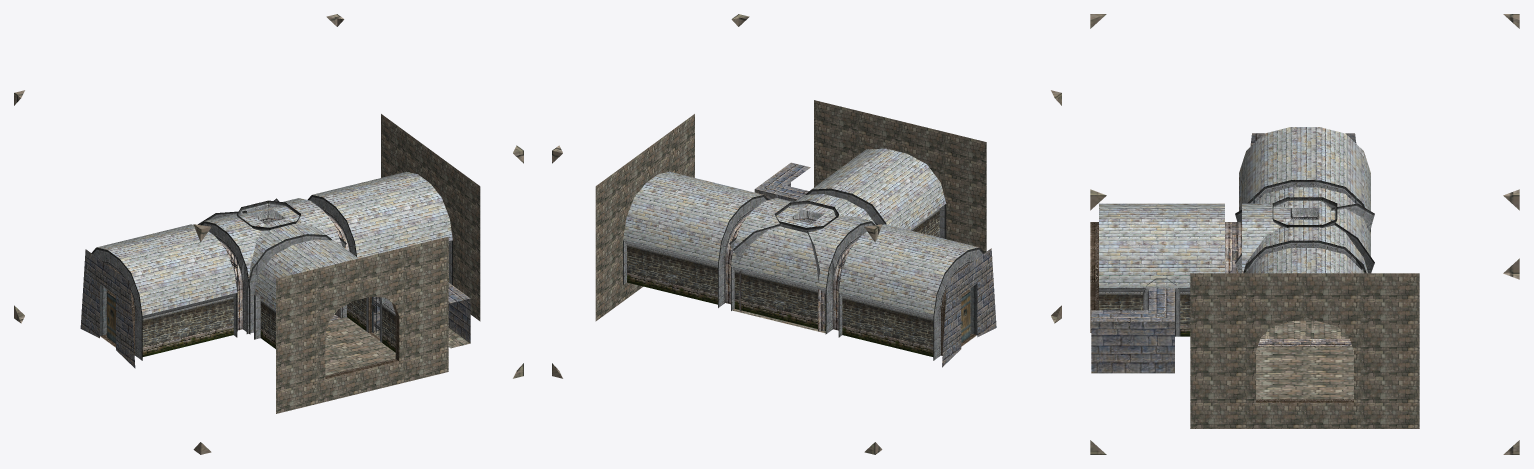
File: lbg_2kt.glb
The picture shows the model from 3 angles, left to right: view 1: azimuth 30°, elevation 25°; view 2: azimuth 150°, elevation 25°; view 3: azimuth 270°, elevation 25°; orthographic projection. The views are drawn at different scales.
Parts seen in each view (by area): view 1: lbg_2kt; view 2: lbg_2kt; view 3: lbg_2kt.
Part boxes in pixels (x1=…): lbg_2kt: x1=14, y1=14, x2=523, y2=454; lbg_2kt: x1=552, y1=14, x2=1061, y2=454; lbg_2kt: x1=1090, y1=14, x2=1519, y2=454.
Size of the model in its own units: 15 by 10 by 15.
13 materials, 13 textured.
